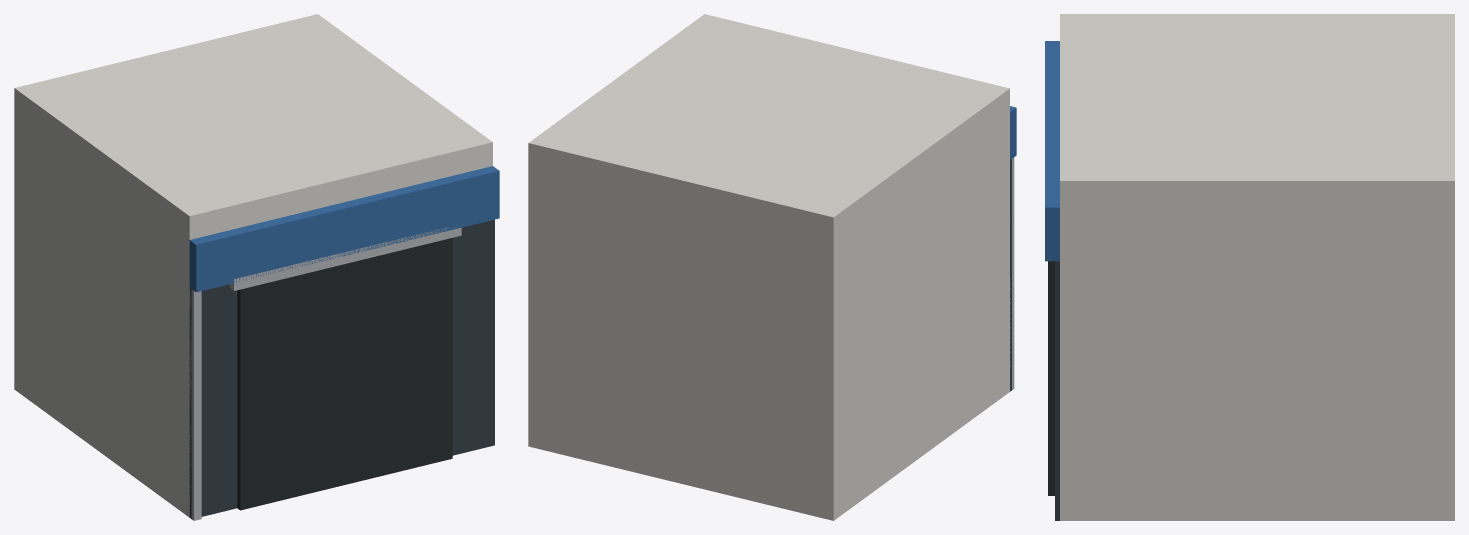
File: galleria-door.glb
3 renders of one model, left to right at view 1: azimuth 30°, elevation 25°; view 2: azimuth 150°, elevation 25°; view 3: azimuth 270°, elevation 25°, orthographic. The views are drawn at different scales.
Visible parts, largest first — view 1: galleria-door; view 2: galleria-door; view 3: galleria-door.
Part boxes in pixels (bbox=[...]): galleria-door: bbox=[14, 14, 499, 520]; galleria-door: bbox=[528, 14, 1016, 520]; galleria-door: bbox=[1045, 14, 1454, 520].
Size of the model in its own units: 4 by 3.8 by 4.15.
